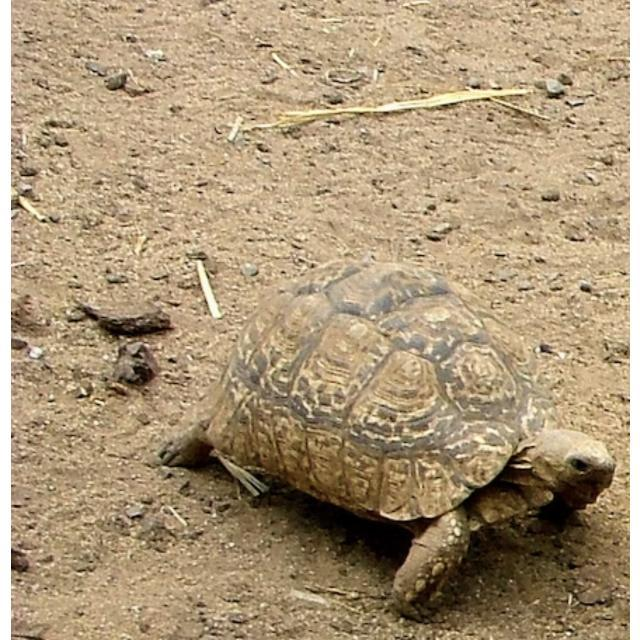turtle: (154, 259, 616, 624)
